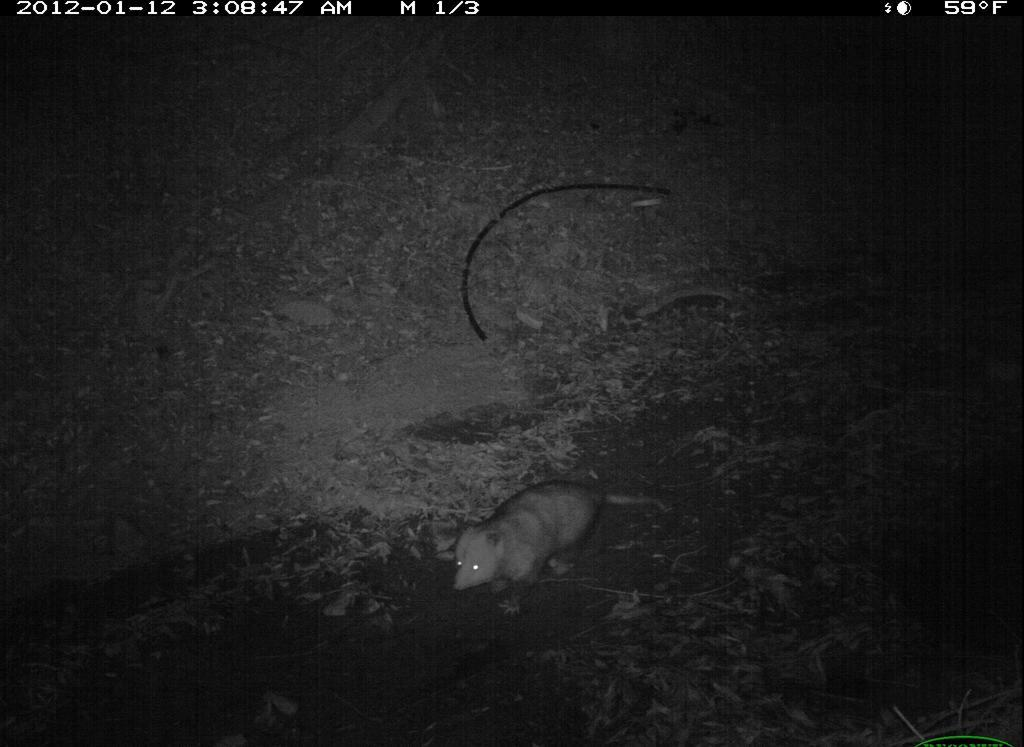opossum: (450, 481, 679, 602)
